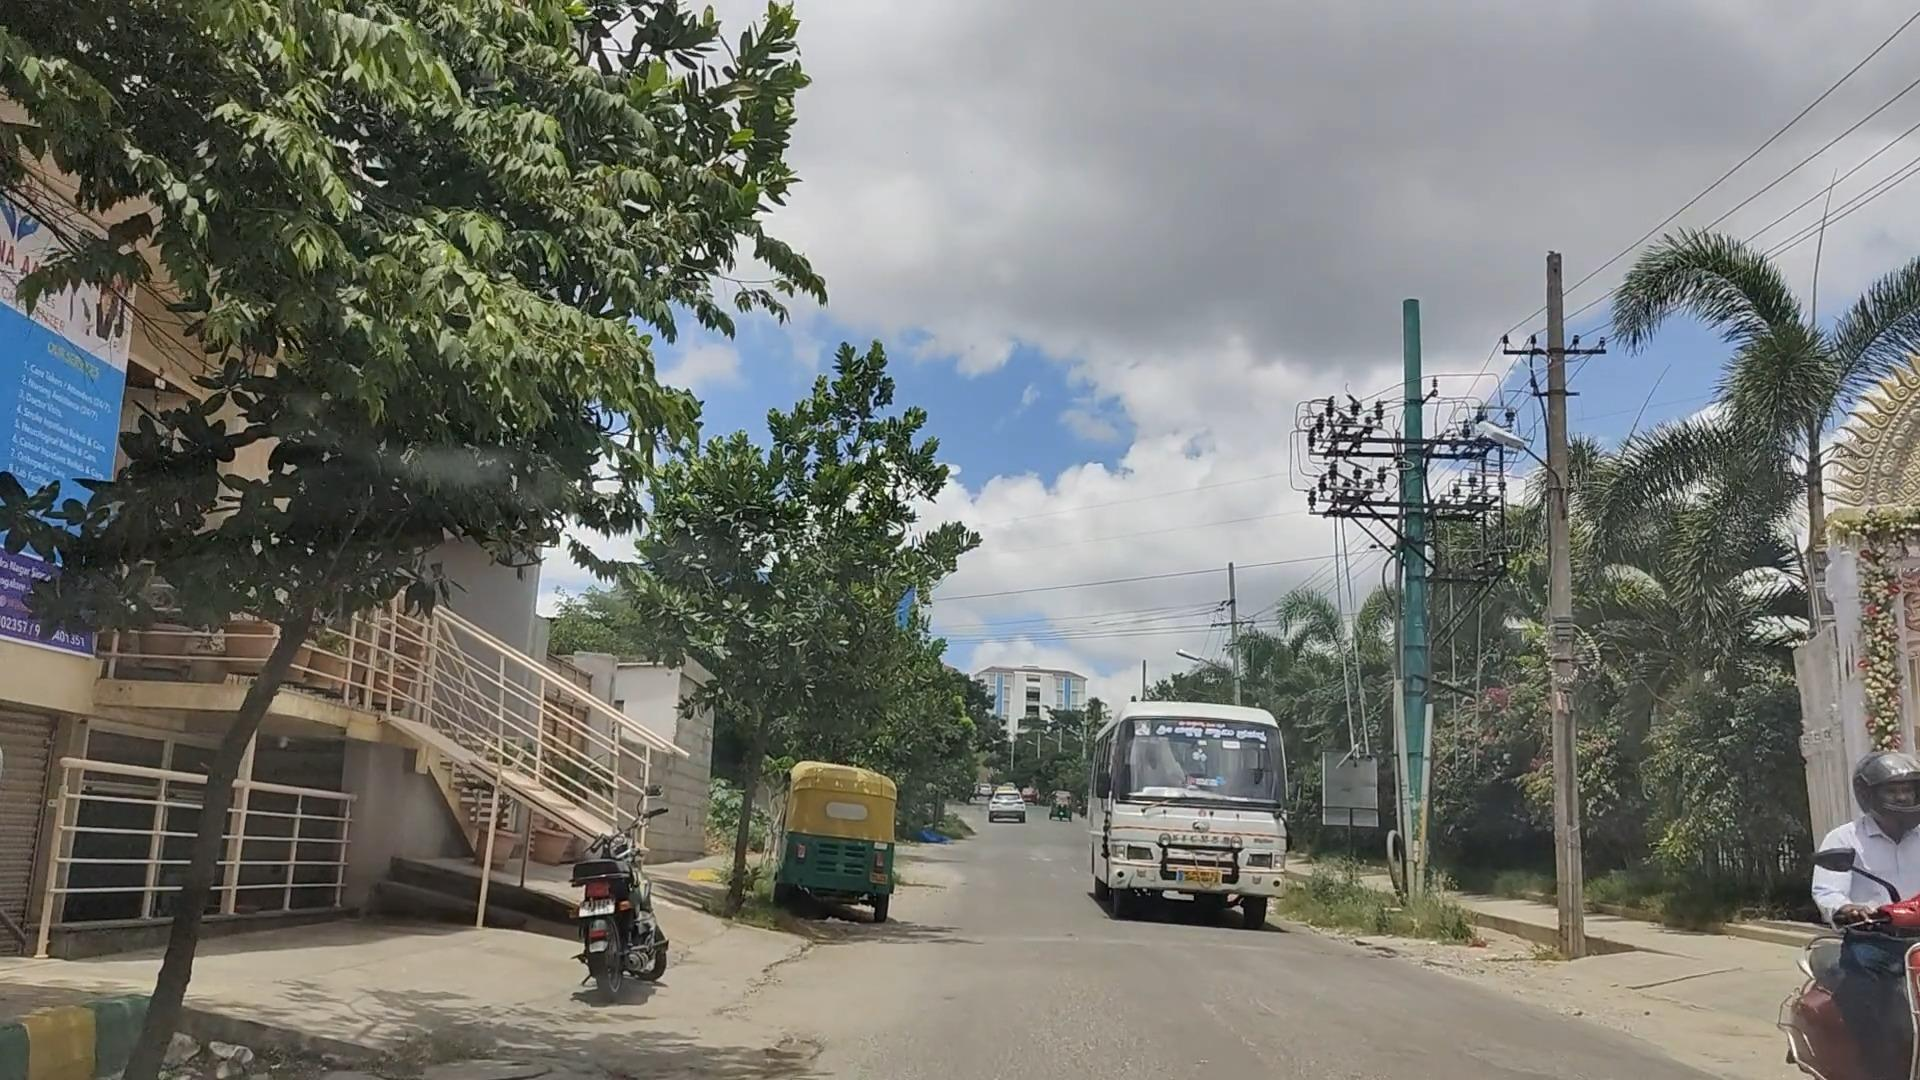HMV: (1072, 669, 1316, 956)
LMV: (517, 777, 723, 1030)
RoadDamages: (367, 1005, 700, 1080)
